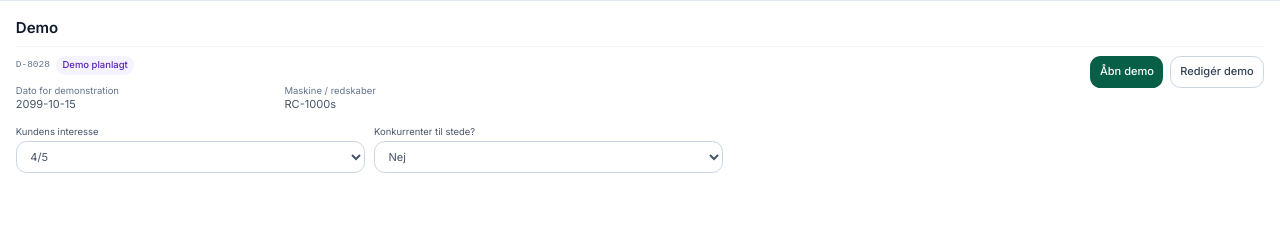
Test: one canonical lead demo section › edits the top-card result through the canonical save without completing a planned demo
The image size is (1280, 226).
Select "5/5" in the dropdown labelled "Kundens interesse" at (190, 157), box x1=16 y1=141 x2=365 y2=173
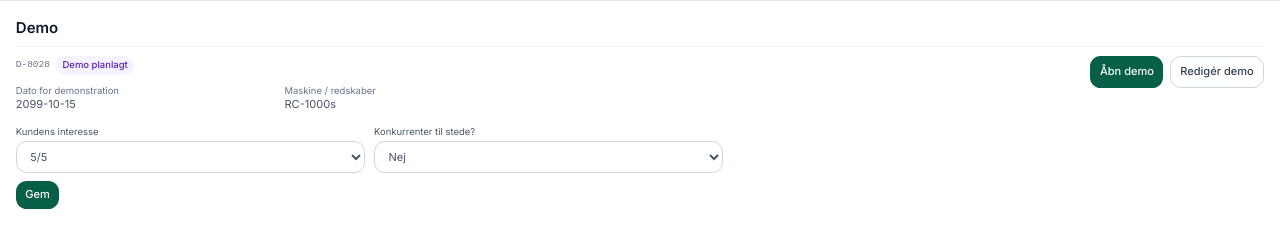
Select "Ja" in the dropdown labelled "Konkurrenter til stede?" at (548, 157), box x1=374 y1=141 x2=723 y2=173
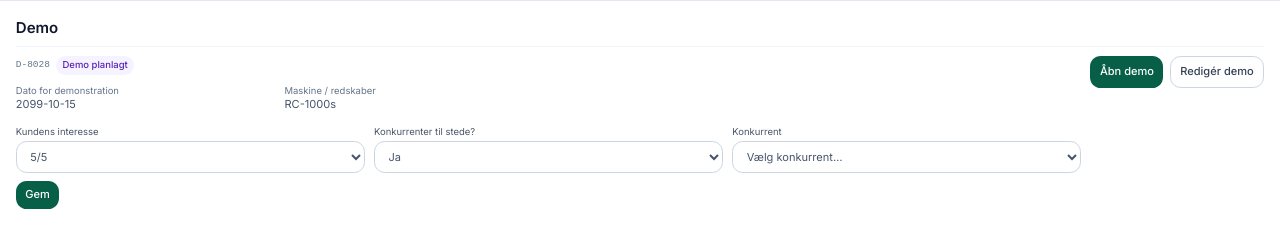
Expected: the dropdown labelled "Konkurrent" is shown
Select "Hako" in the dropdown labelled "Konkurrent" at (907, 157), box x1=732 y1=141 x2=1081 y2=173
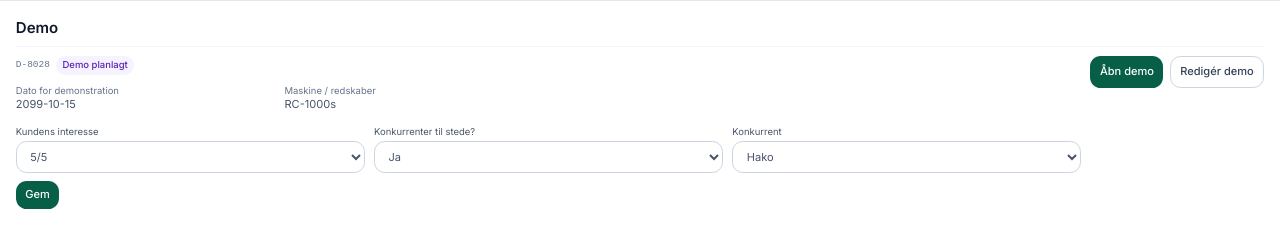
Click the button "Gem" at (38, 195), box x1=16 y1=181 x2=59 y2=209
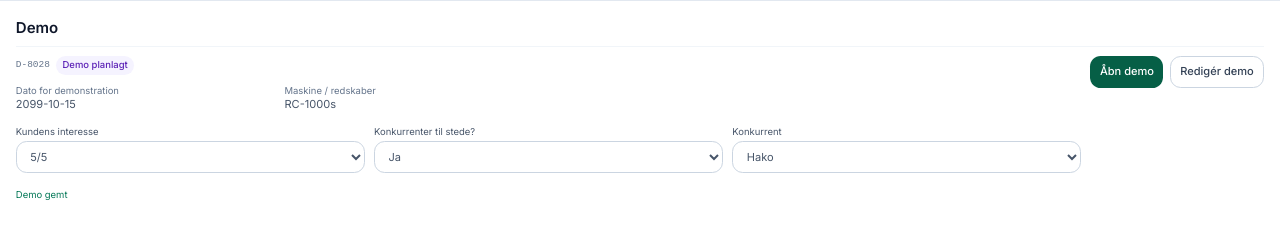
Expected: the text "Demo planlagt" is shown, x1=56 y1=56 x2=134 y2=75
Expected: the message reads "Demo gemt", x1=16 y1=189 x2=68 y2=200
Select "Nej" in the dropdown labelled "Konkurrenter til stede?" at (548, 157), box x1=374 y1=141 x2=723 y2=173
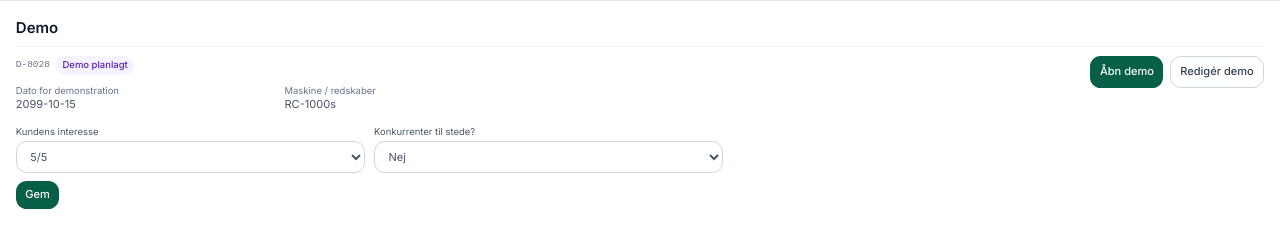
Click the button "Gem" at (38, 195), box x1=16 y1=181 x2=59 y2=209
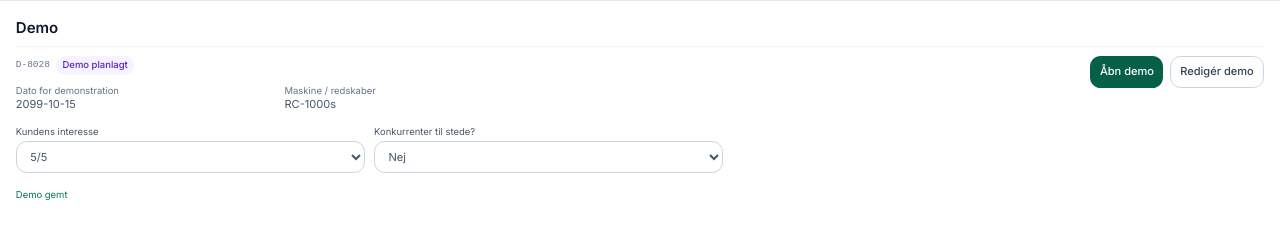
Expected: the message reads "Demo gemt", x1=16 y1=189 x2=68 y2=200
